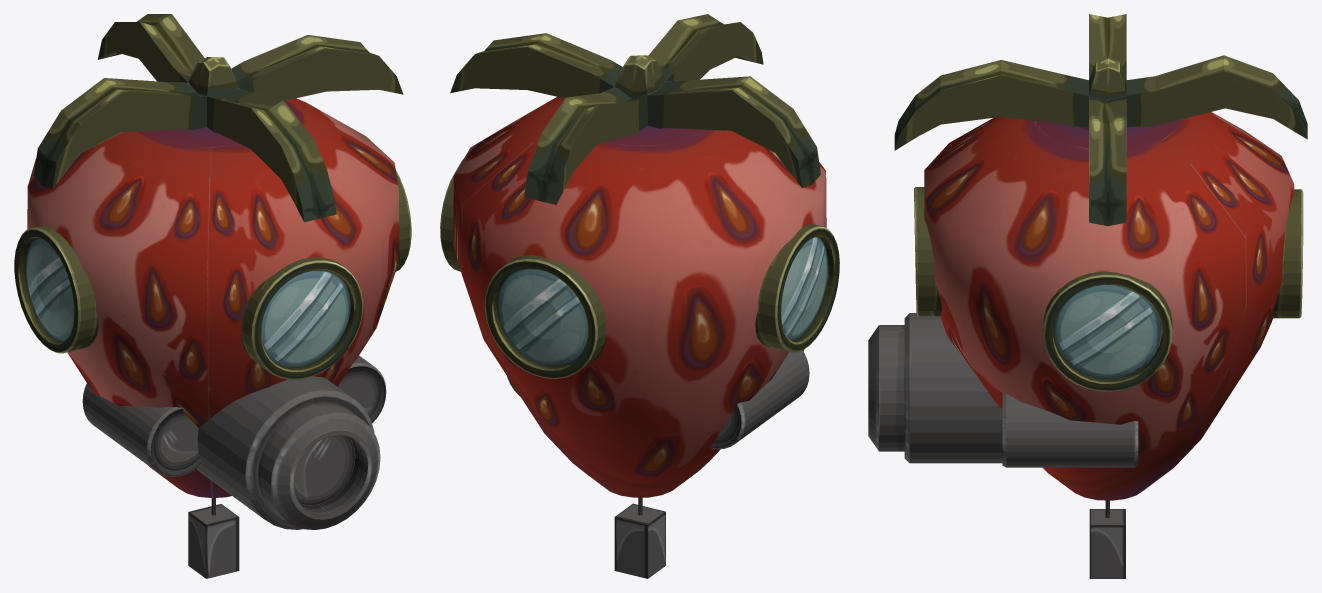
Rendered from Aardbeienemy.fbx.
The picture shows the model from 3 angles, left to right: view 1: azimuth 30°, elevation 25°; view 2: azimuth 150°, elevation 25°; view 3: azimuth 270°, elevation 25°; orthographic projection.
Visible parts, largest first — view 1: AardbeiBASE, Propeller, Cylinder, raam4, raam3, Cylinder.002, Landblok, Cylinder.001, Raam1; view 2: AardbeiBASE, Propeller, raam2, raam3, Cylinder.002, Landblok, Raam1; view 3: AardbeiBASE, Propeller, Cylinder, Raam1, Cylinder.001, raam2, Landblok, raam4.
Boxes of the visible parts, left/top/right/bottom form: AardbeiBASE: left=27, top=98, right=399, bottom=498; Propeller: left=34, top=14, right=403, bottom=222; Cylinder: left=196, top=376, right=380, bottom=529; raam4: left=241, top=257, right=363, bottom=379; raam3: left=14, top=225, right=98, bottom=353; Cylinder.002: left=82, top=383, right=202, bottom=476; Landblok: left=188, top=504, right=239, bottom=578; Cylinder.001: left=337, top=355, right=386, bottom=423; Raam1: left=395, top=170, right=411, bottom=271; AardbeiBASE: left=453, top=96, right=826, bottom=497; Propeller: left=450, top=14, right=820, bottom=204; raam2: left=484, top=255, right=606, bottom=378; raam3: left=755, top=224, right=839, bottom=352; Cylinder.002: left=709, top=350, right=809, bottom=449; Landblok: left=614, top=503, right=665, bottom=578; Raam1: left=440, top=159, right=463, bottom=271; AardbeiBASE: left=924, top=112, right=1294, bottom=500; Propeller: left=894, top=14, right=1307, bottom=226; Cylinder: left=868, top=313, right=1002, bottom=463; Raam1: left=1043, top=271, right=1172, bottom=391; Cylinder.001: left=1002, top=393, right=1138, bottom=467; raam2: left=1271, top=189, right=1303, bottom=318; Landblok: left=1089, top=509, right=1125, bottom=578; raam4: left=914, top=187, right=941, bottom=316.
Size of the model in its own units: 339 by 472 by 368.
